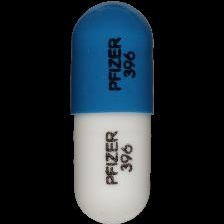0049-3960: (0, 0, 224, 224)
